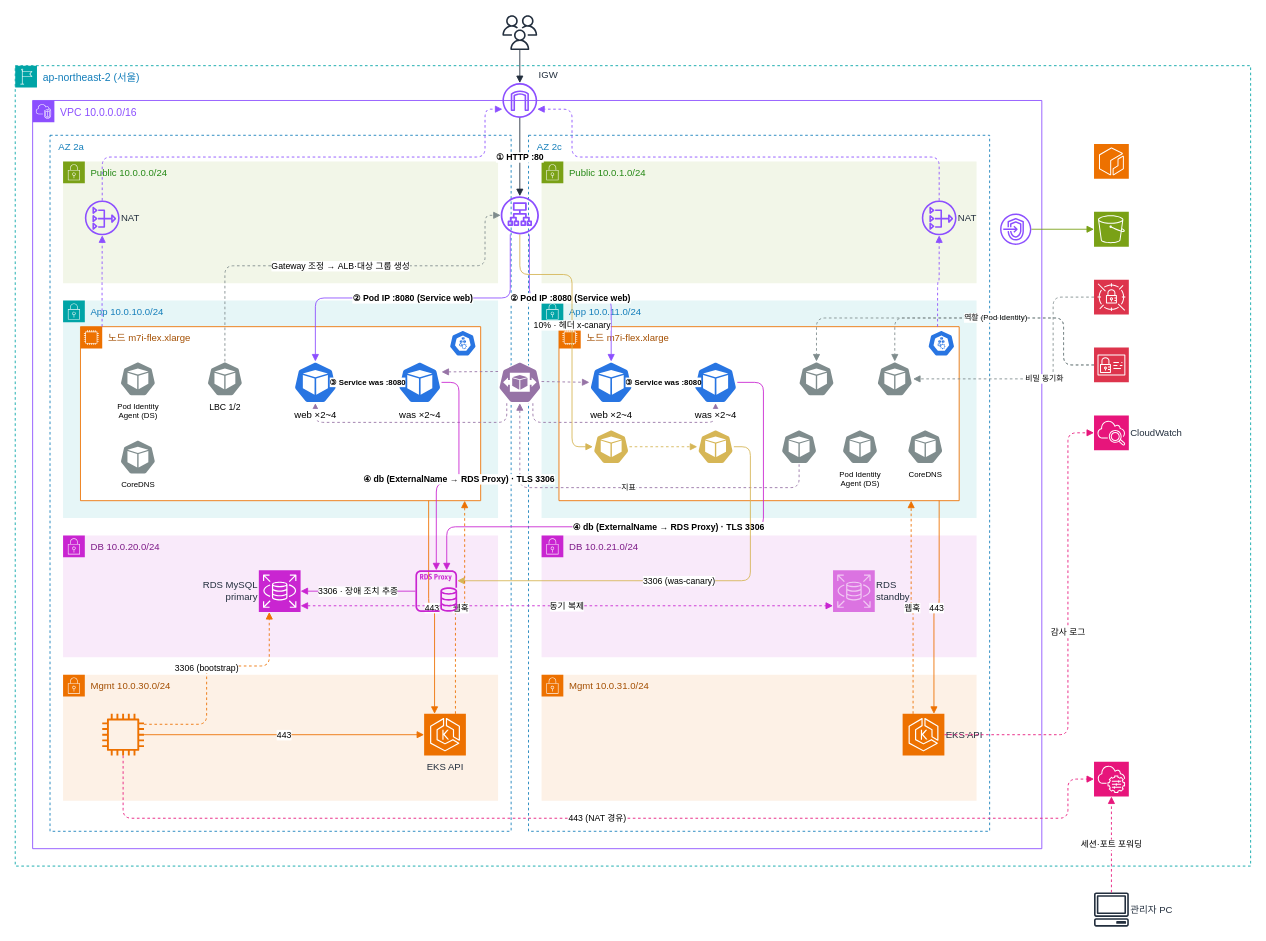
Image size: 1266x941. Some labels were removed from this diagram. The centre of each missing label's shape, as x and y in pixels:
"ALB ← Gateway · HTTPRoute (90:10 · x-canary)" goes at [519,215].
"ECR" goes at [1111,161].
"ESO → Secret app-db" goes at [894,378].
"HPA · CPU 50% web·was 2~4" goes at [519,382].
"LBC 2/2" goes at [816,378].
"metrics-server ×2" goes at [798,446].
"Pod Identity" goes at [1111,364].
"RDS Proxy (TLS 필수) ENI db-a·db-c 앱 비밀만 · 풀링" goes at [436,591].
"S3" goes at [1111,229].
"S3 GW 엔드포인트" goes at [1015,228].
"Secrets Manager" goes at [1111,297].
"Systems Manager" goes at [1111,778].
"was-canary" goes at [715,446].
"web-canary" goes at [610,446].
"관리 EC2" goes at [123,734].
"사용자" goes at [519,32].
